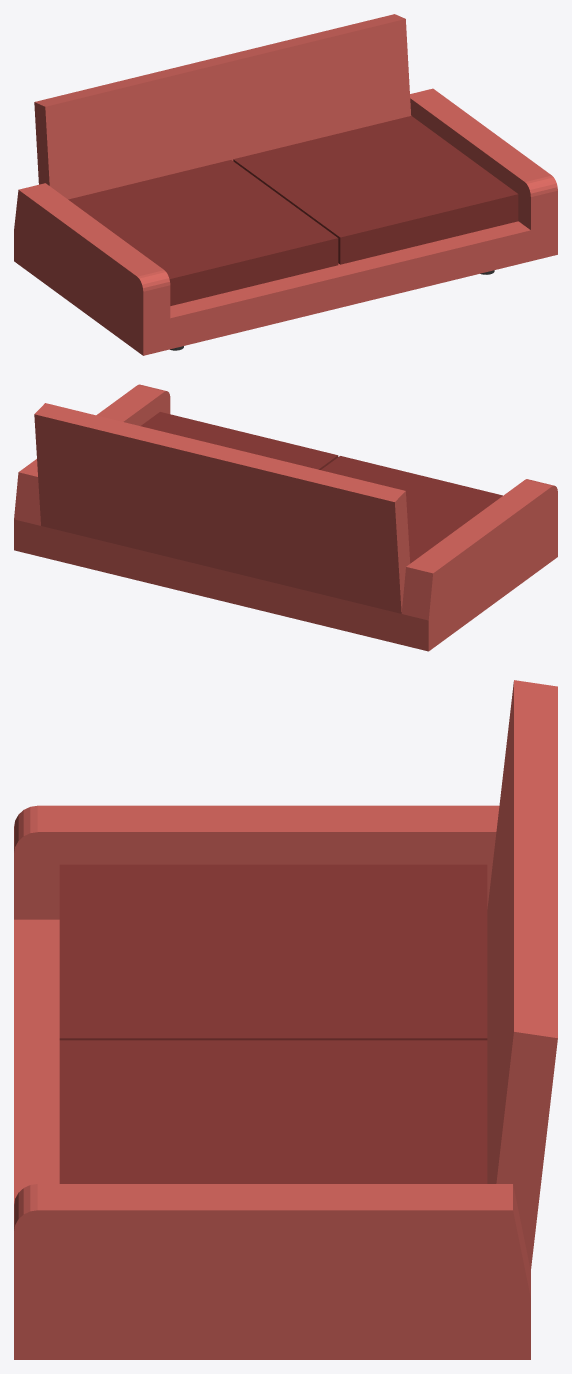
The model's file is armchair.glb.
The picture shows the model from 3 angles, top to bottom: view 1: azimuth 30°, elevation 25°; view 2: azimuth 150°, elevation 25°; view 3: azimuth 270°, elevation 25°; orthographic projection. The views are drawn at different scales.
Parts seen in each view (by area): view 1: Cube; view 2: Cube; view 3: Cube.
Boxes of the visible parts, x1,y1,x2,y2 form: Cube: [14, 14, 557, 355]; Cube: [14, 384, 557, 651]; Cube: [14, 680, 557, 1359].
Size of the model in its own units: 5.58 by 2.18 by 3.17.
